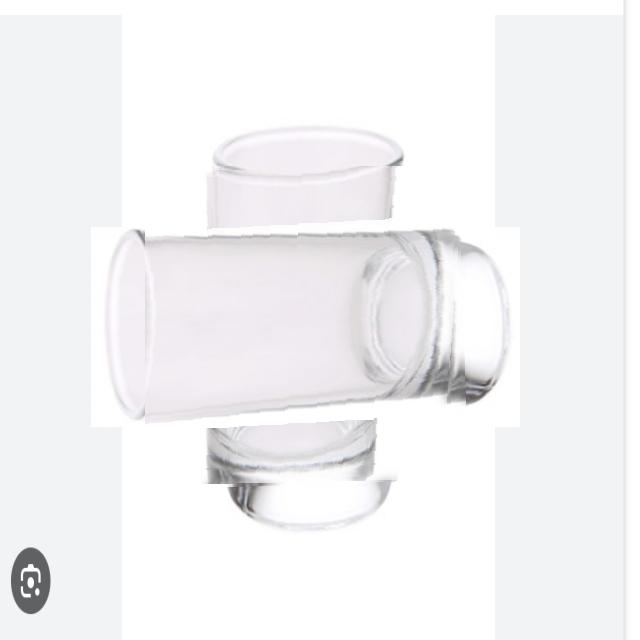recyclable: (146, 166, 466, 486)
